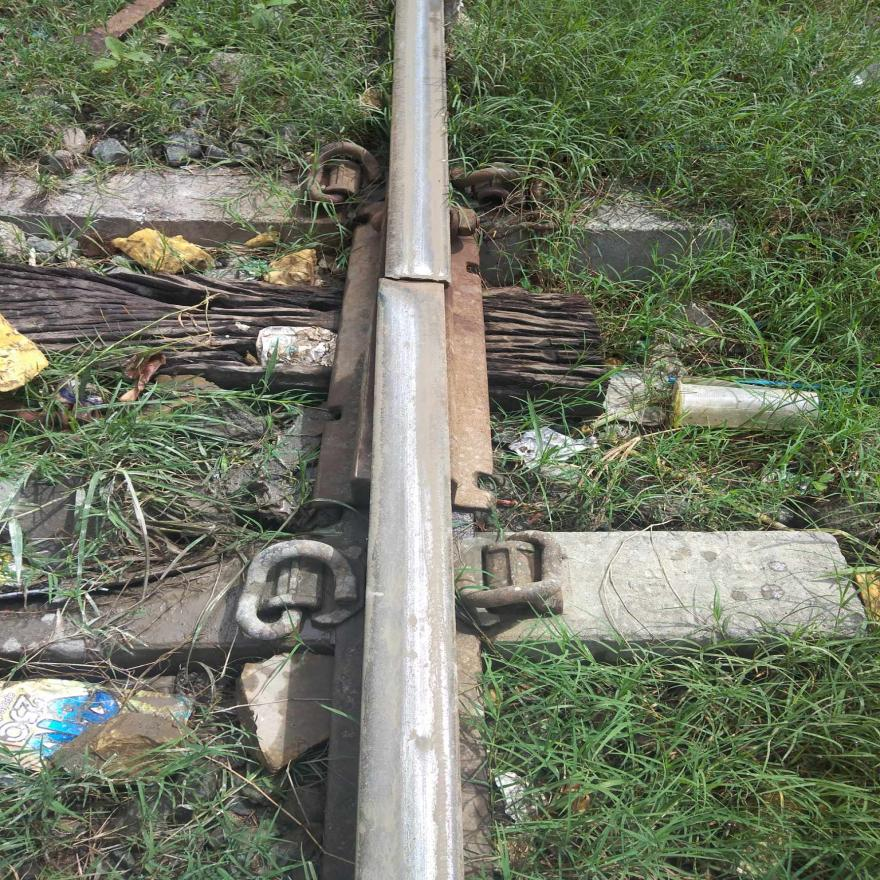railway-gap: (339, 234, 484, 326)
